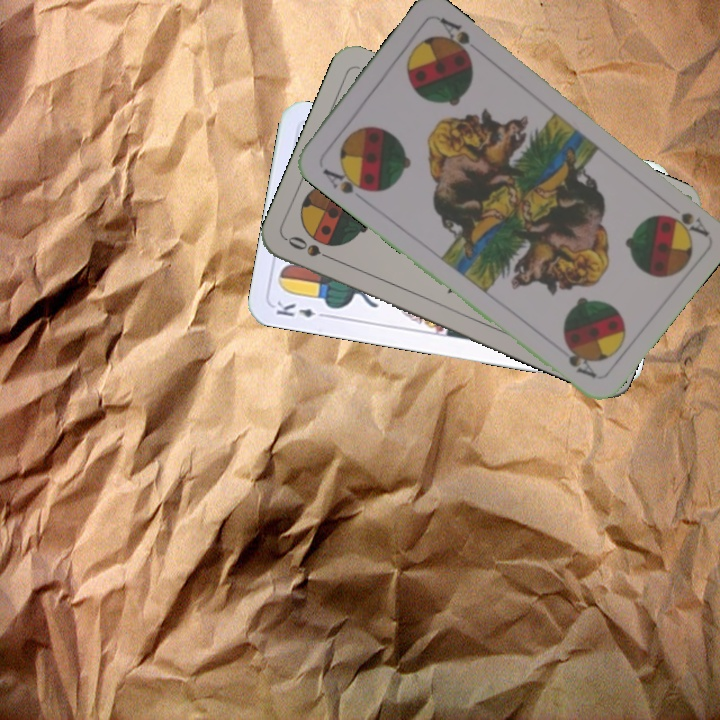EK: (272, 297, 331, 321)
SA: (318, 162, 373, 197), (663, 208, 710, 238)
SO: (283, 232, 339, 264)
